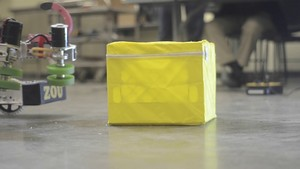cube: (107, 40, 219, 125)
